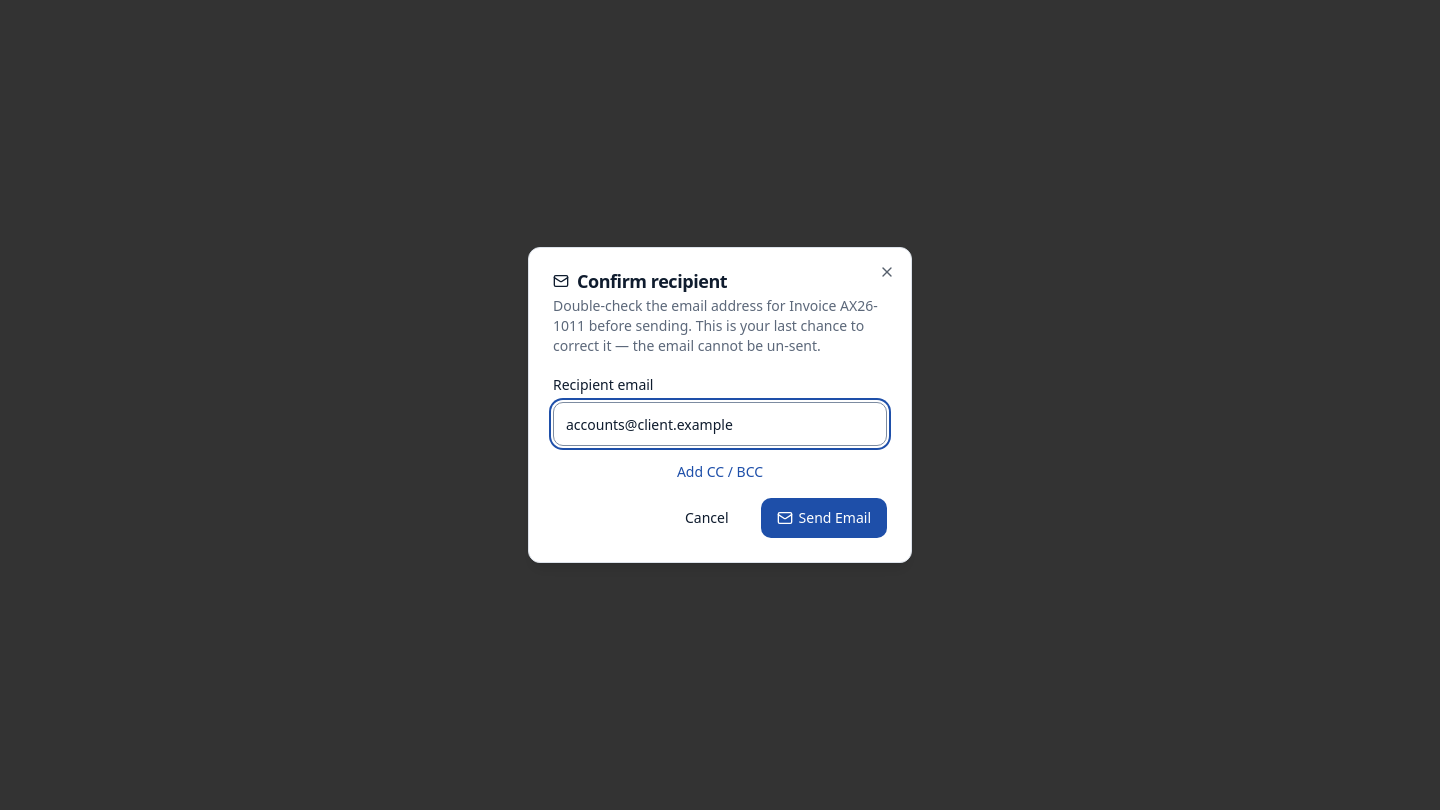
Test: invoice email CC / BCC › blocks sending while a copy address is invalid
Later steps or results of the test are not shown.
Click the button "Add CC / BCC" at (720, 472), box [553,462,887,482]
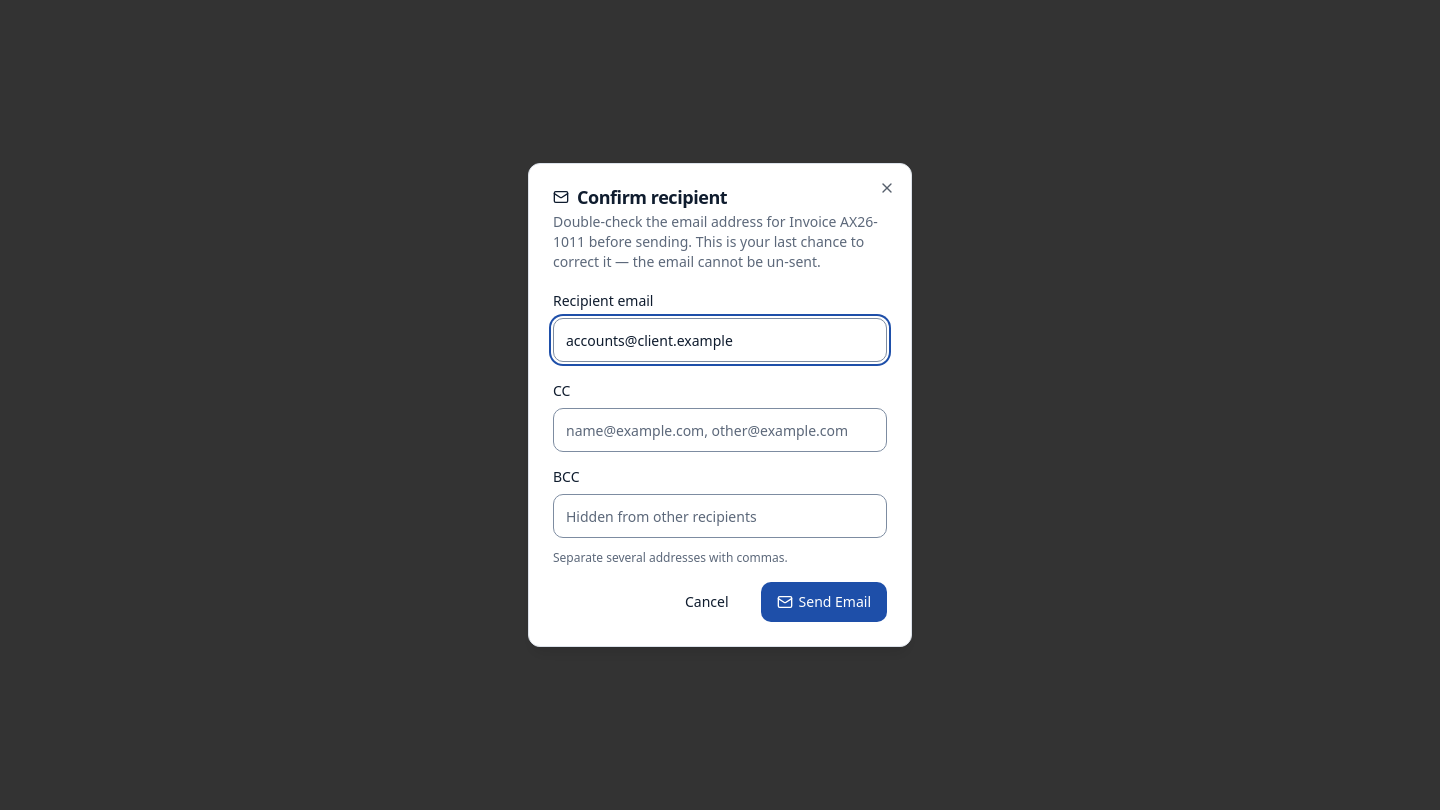
Type "ops@client" into the field labelled "CC" at (720, 430), box [553,408,887,452]
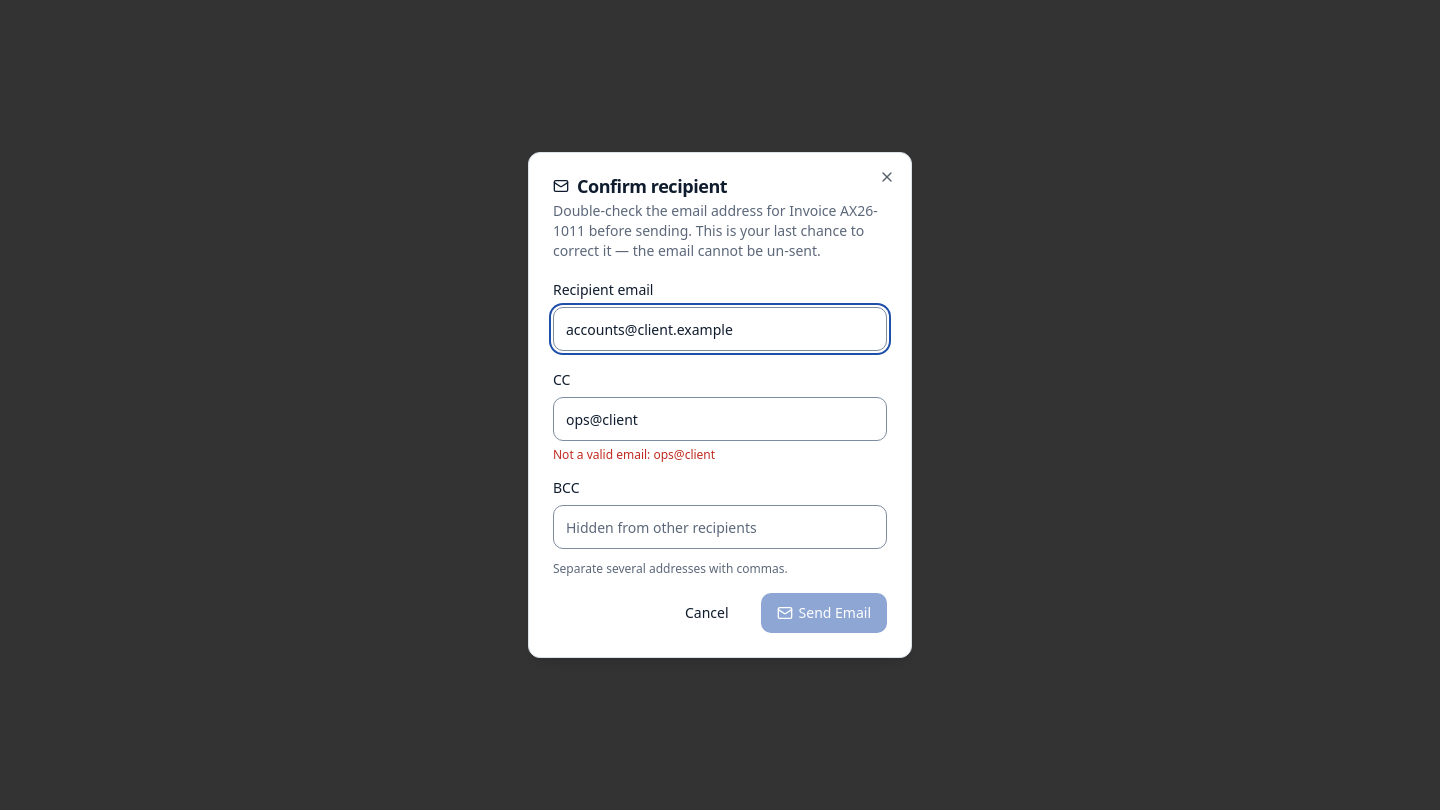
Now the text "Not a valid email: ops@client" is shown, box [553,446,715,463]
Now the button "Send Email" is disabled, box [761,593,887,633]
